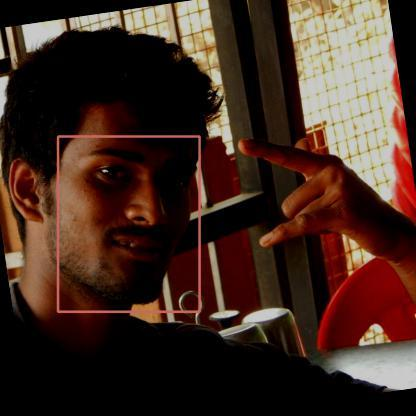without_mask: (58, 136, 199, 312)
